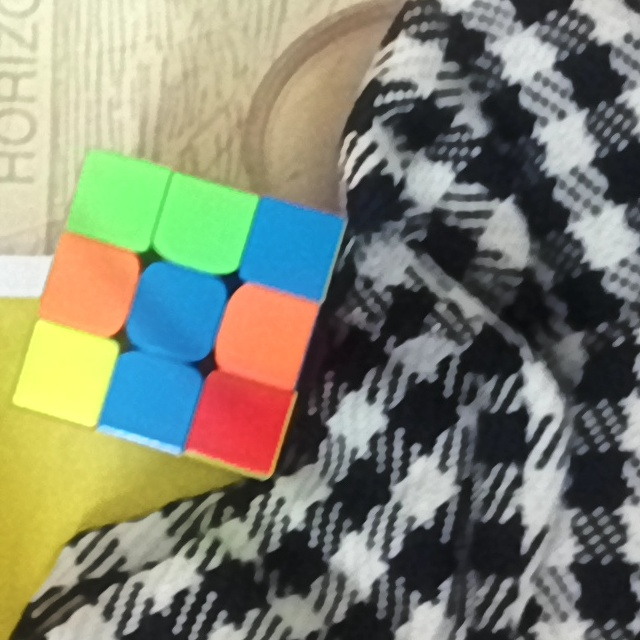tile: (207, 391, 280, 456), (141, 281, 210, 347), (257, 216, 329, 279), (171, 192, 239, 258), (56, 255, 122, 322), (233, 303, 302, 367), (33, 341, 97, 407), (117, 370, 188, 428), (84, 170, 148, 231)
